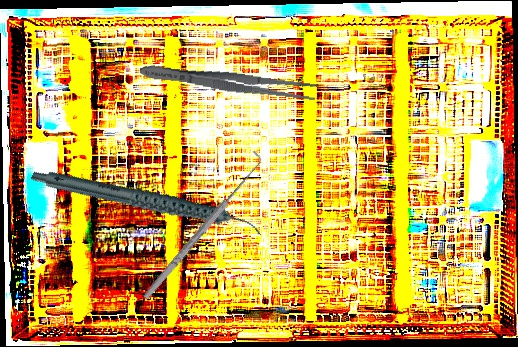Dressing Forceps: (138, 59, 318, 104)
Handpiece: (30, 124, 265, 282)
Hook Surgical: (135, 148, 269, 304)
